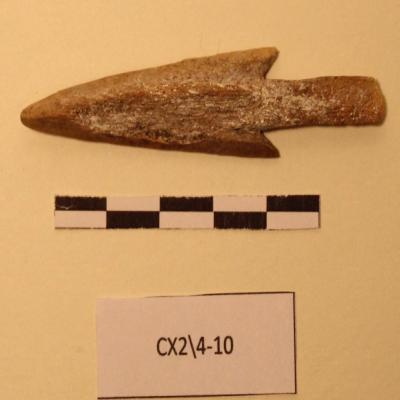archeology: (20, 47, 388, 160)
